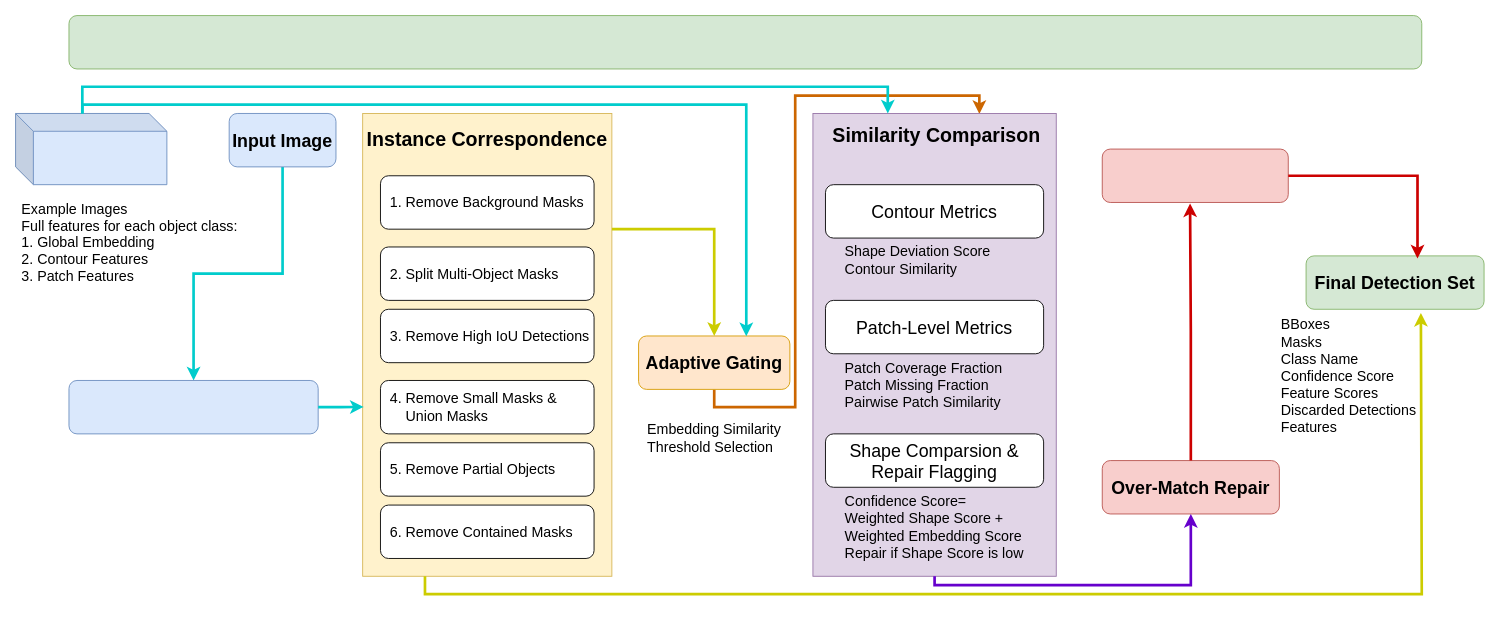
This 1500x618 diagram has some shape labels left out. The centre of each missing label's shape, as x and y in pixels:
"Few-Shot Pool" goes at (x=91, y=149).
"MOSAIC-DET-SEG Architecture" goes at (x=745, y=42).
"Partial-Match Repair" goes at (x=1194, y=175).
"YOLO-E Detection & Segmentation" goes at (x=193, y=407).
